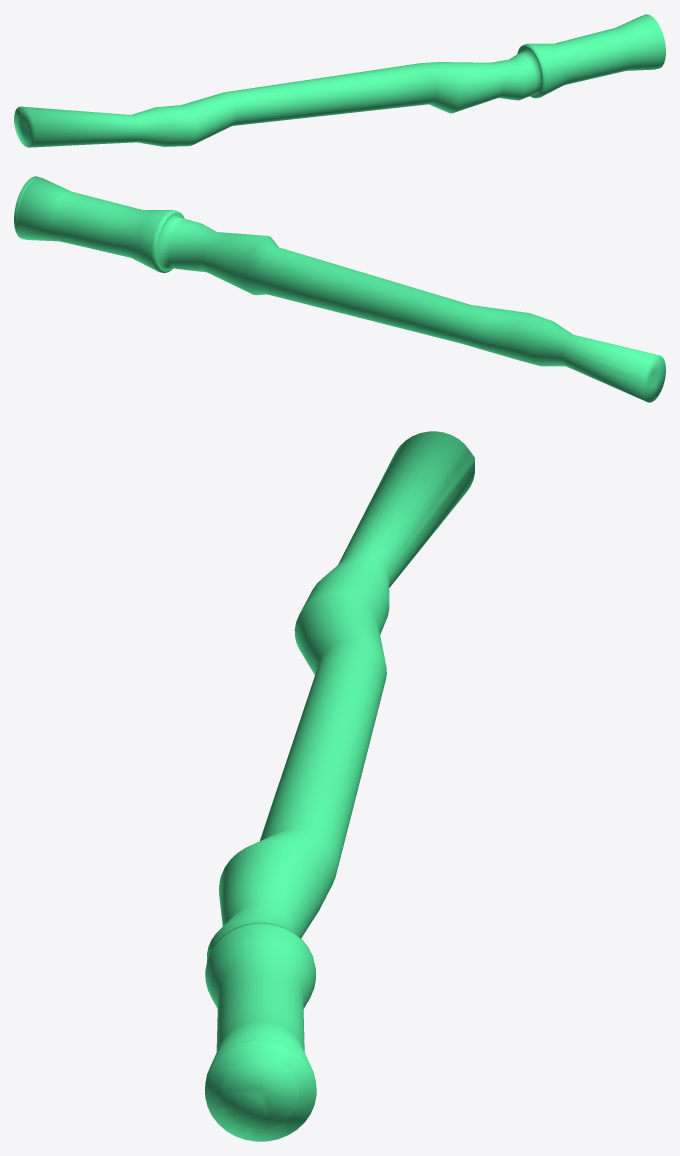
Rendered from hiking_stick.fbx.
3 views of the same model, one above another, from view 1: azimuth 30°, elevation 25°; view 2: azimuth 150°, elevation 25°; view 3: azimuth 270°, elevation 25° (orthographic). The views are drawn at different scales.
Parts seen in each view (by area): view 1: 0hiking_stick; view 2: 0hiking_stick; view 3: 0hiking_stick.
Part boxes in pixels (left/top/right/bottom): 0hiking_stick: left=14, top=14, right=665, bottom=147; 0hiking_stick: left=14, top=176, right=665, bottom=402; 0hiking_stick: left=205, top=431, right=474, bottom=1141.
Size of the model in its own units: 200 by 22.77 by 39.81.
